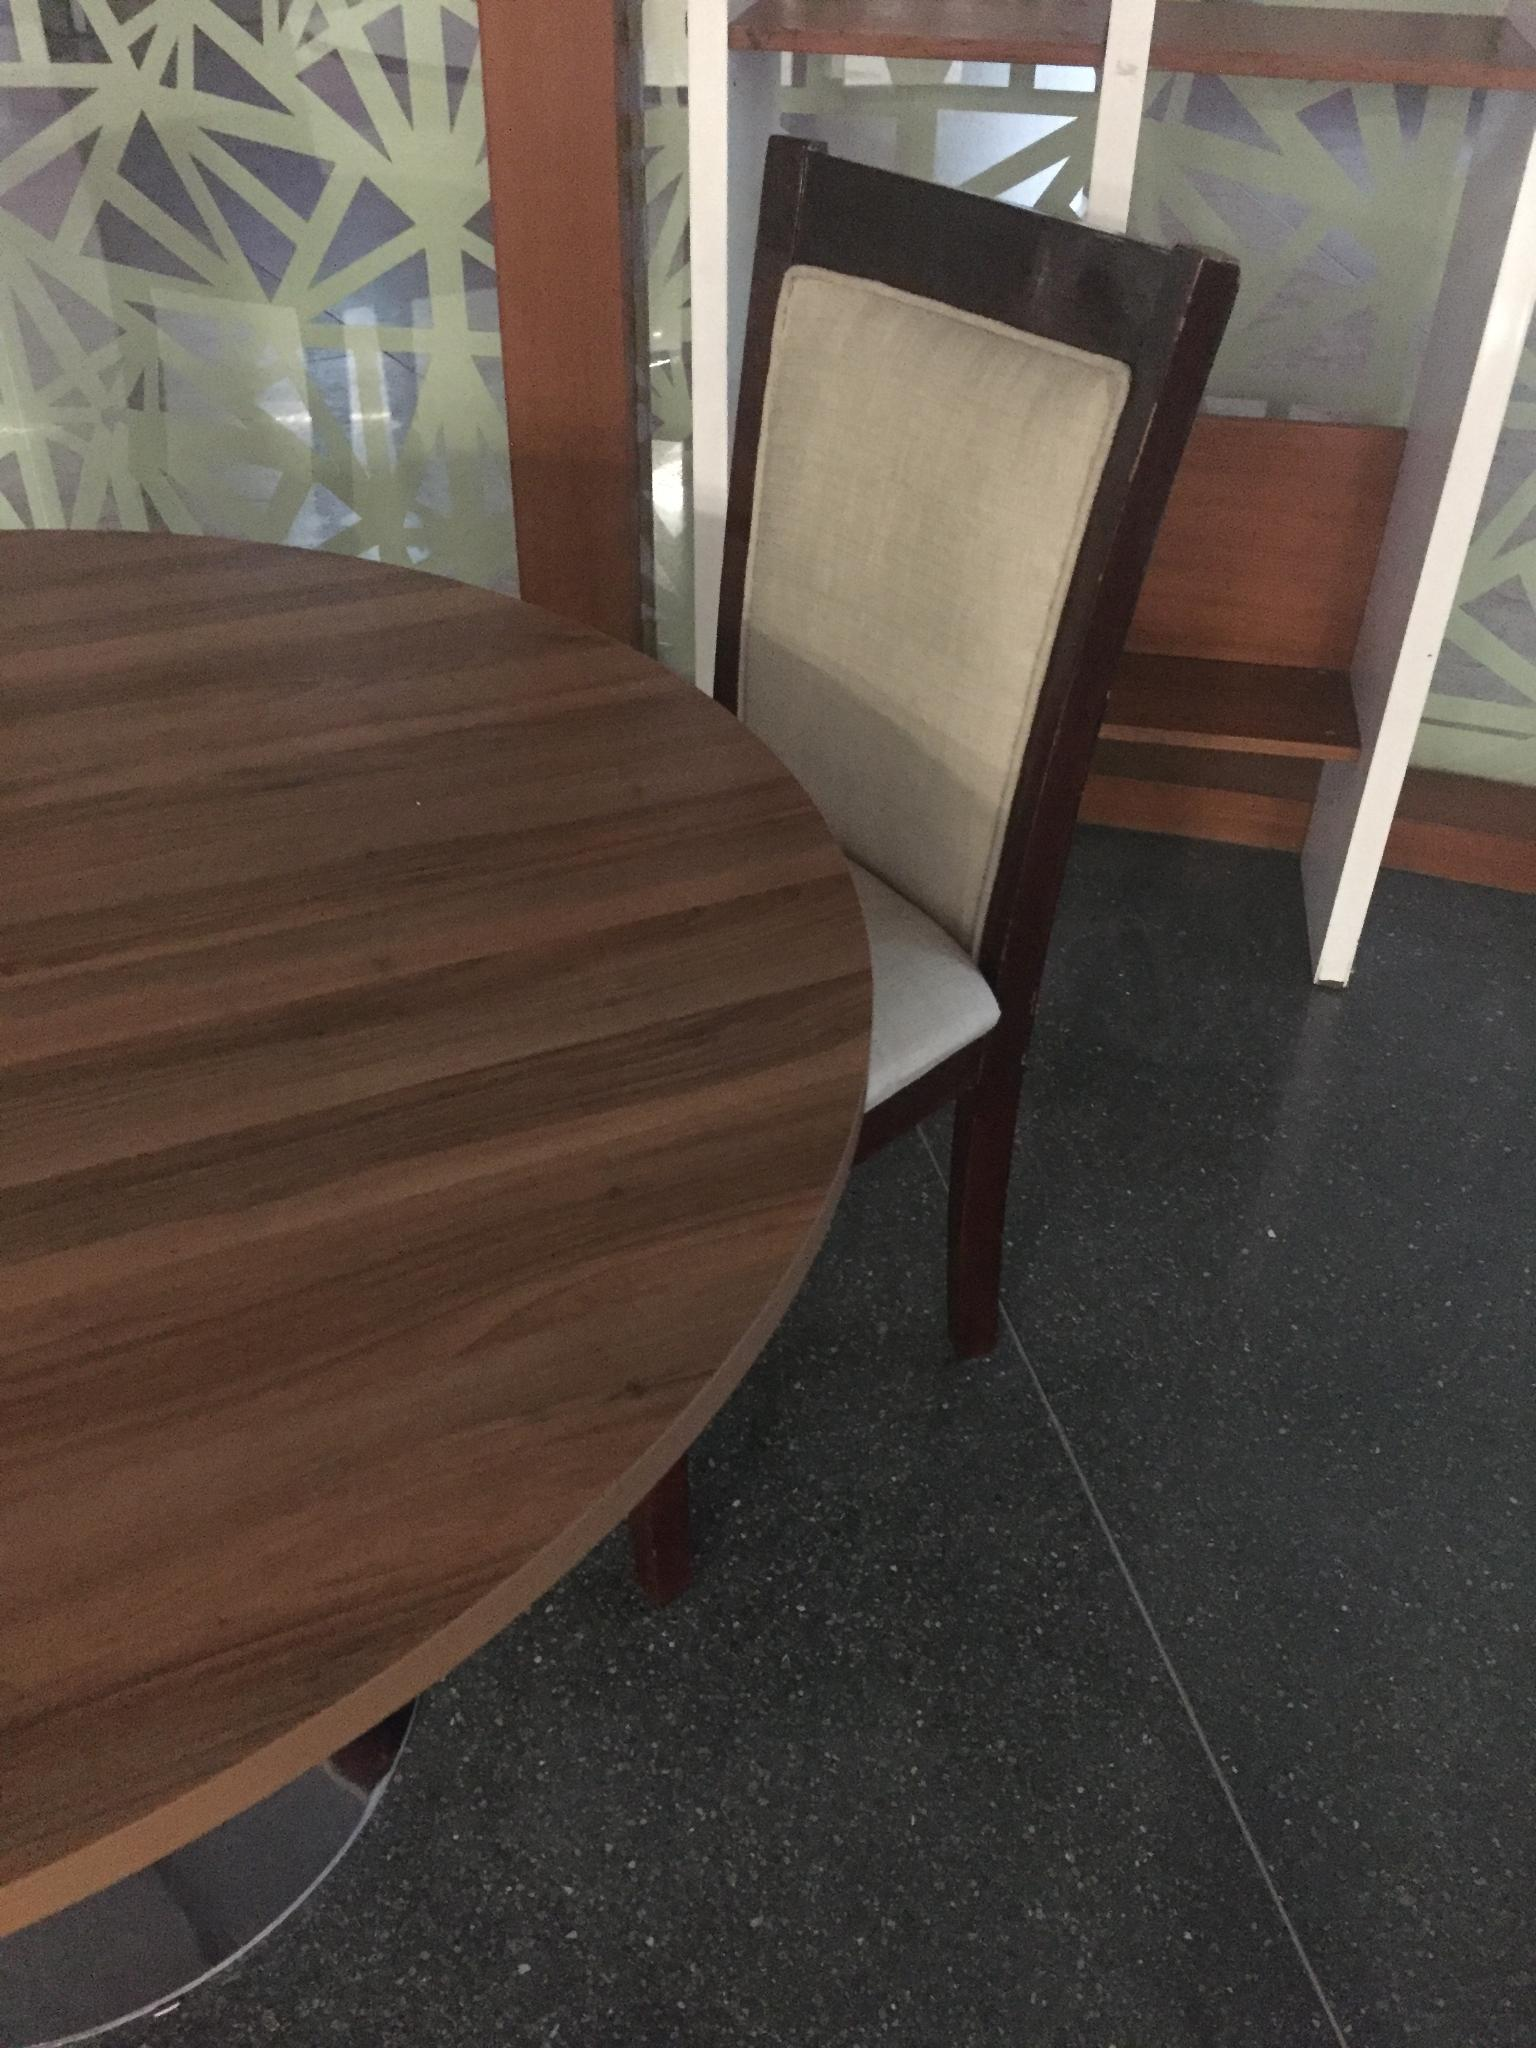chair: (595, 119, 1249, 1440)
